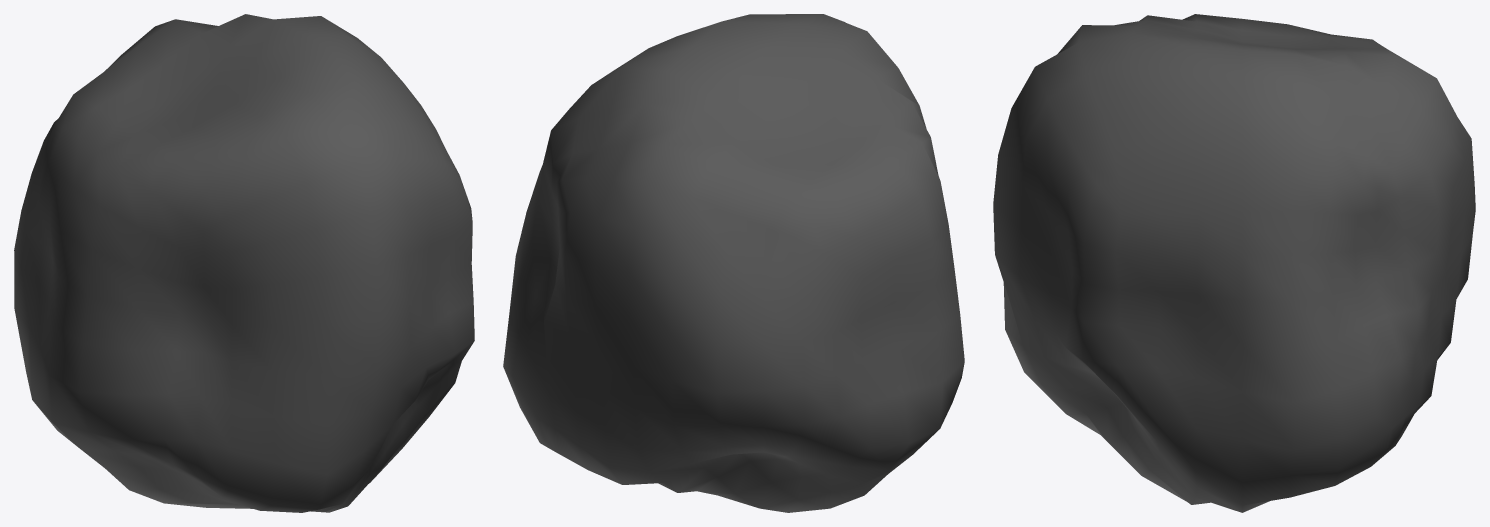
The model's file is stone2.fbx.
3 views of the same model, side by side, from view 1: azimuth 30°, elevation 25°; view 2: azimuth 150°, elevation 25°; view 3: azimuth 270°, elevation 25° (orthographic).
Parts seen in each view (by area): view 1: Cube.012; view 2: Cube.012; view 3: Cube.012.
Part boxes in pixels (box(x1,y1,x2,y2)): Cube.012: box(14, 14, 474, 512); Cube.012: box(503, 14, 964, 512); Cube.012: box(993, 14, 1475, 512).
Bounding box in the file's own units: 8.2 × 8.79 × 8.42.
